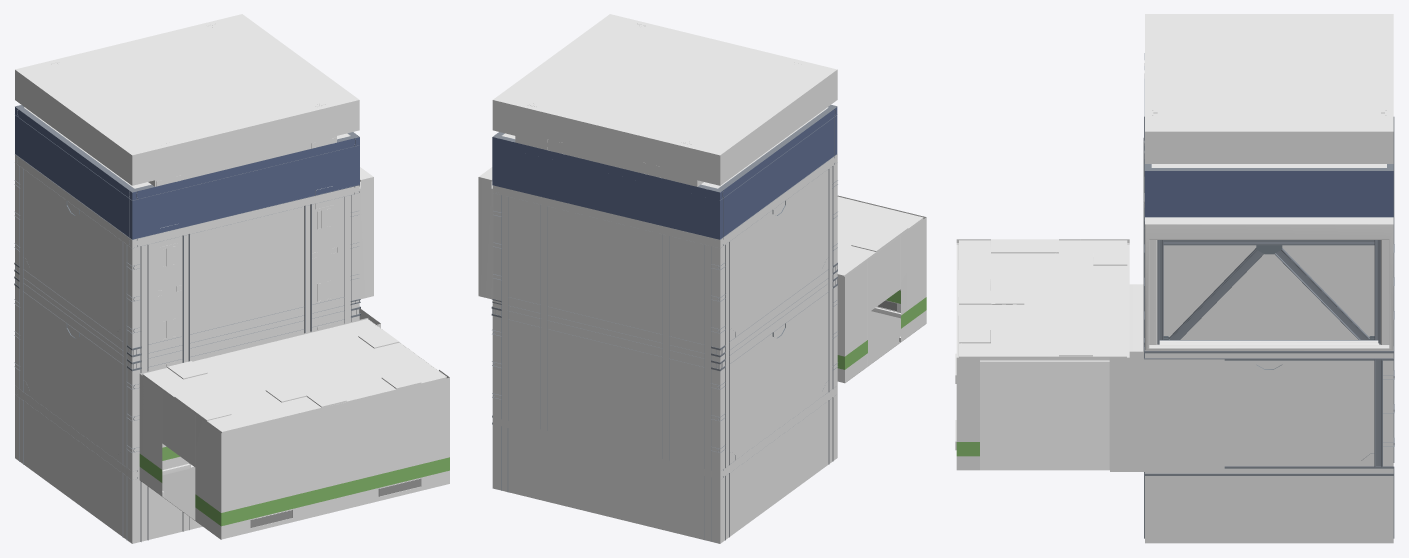
3 renders of one model, left to right at view 1: azimuth 30°, elevation 25°; view 2: azimuth 150°, elevation 25°; view 3: azimuth 270°, elevation 25°, orthographic. The views are drawn at different scales.
Visible parts, largest first — view 1: SM_H_Building_FutureTech_HBlack_01_InterWall_08; view 2: SM_H_Building_FutureTech_HBlack_01_InterWall_08; view 3: SM_H_Building_FutureTech_HBlack_01_InterWall_08.
Boxes of the visible parts, left/top/right/bottom form: SM_H_Building_FutureTech_HBlack_01_InterWall_08: left=14, top=14, right=449, bottom=543; SM_H_Building_FutureTech_HBlack_01_InterWall_08: left=478, top=14, right=926, bottom=543; SM_H_Building_FutureTech_HBlack_01_InterWall_08: left=955, top=14, right=1394, bottom=543.
Size of the model in its own units: 651 by 440 by 673.
